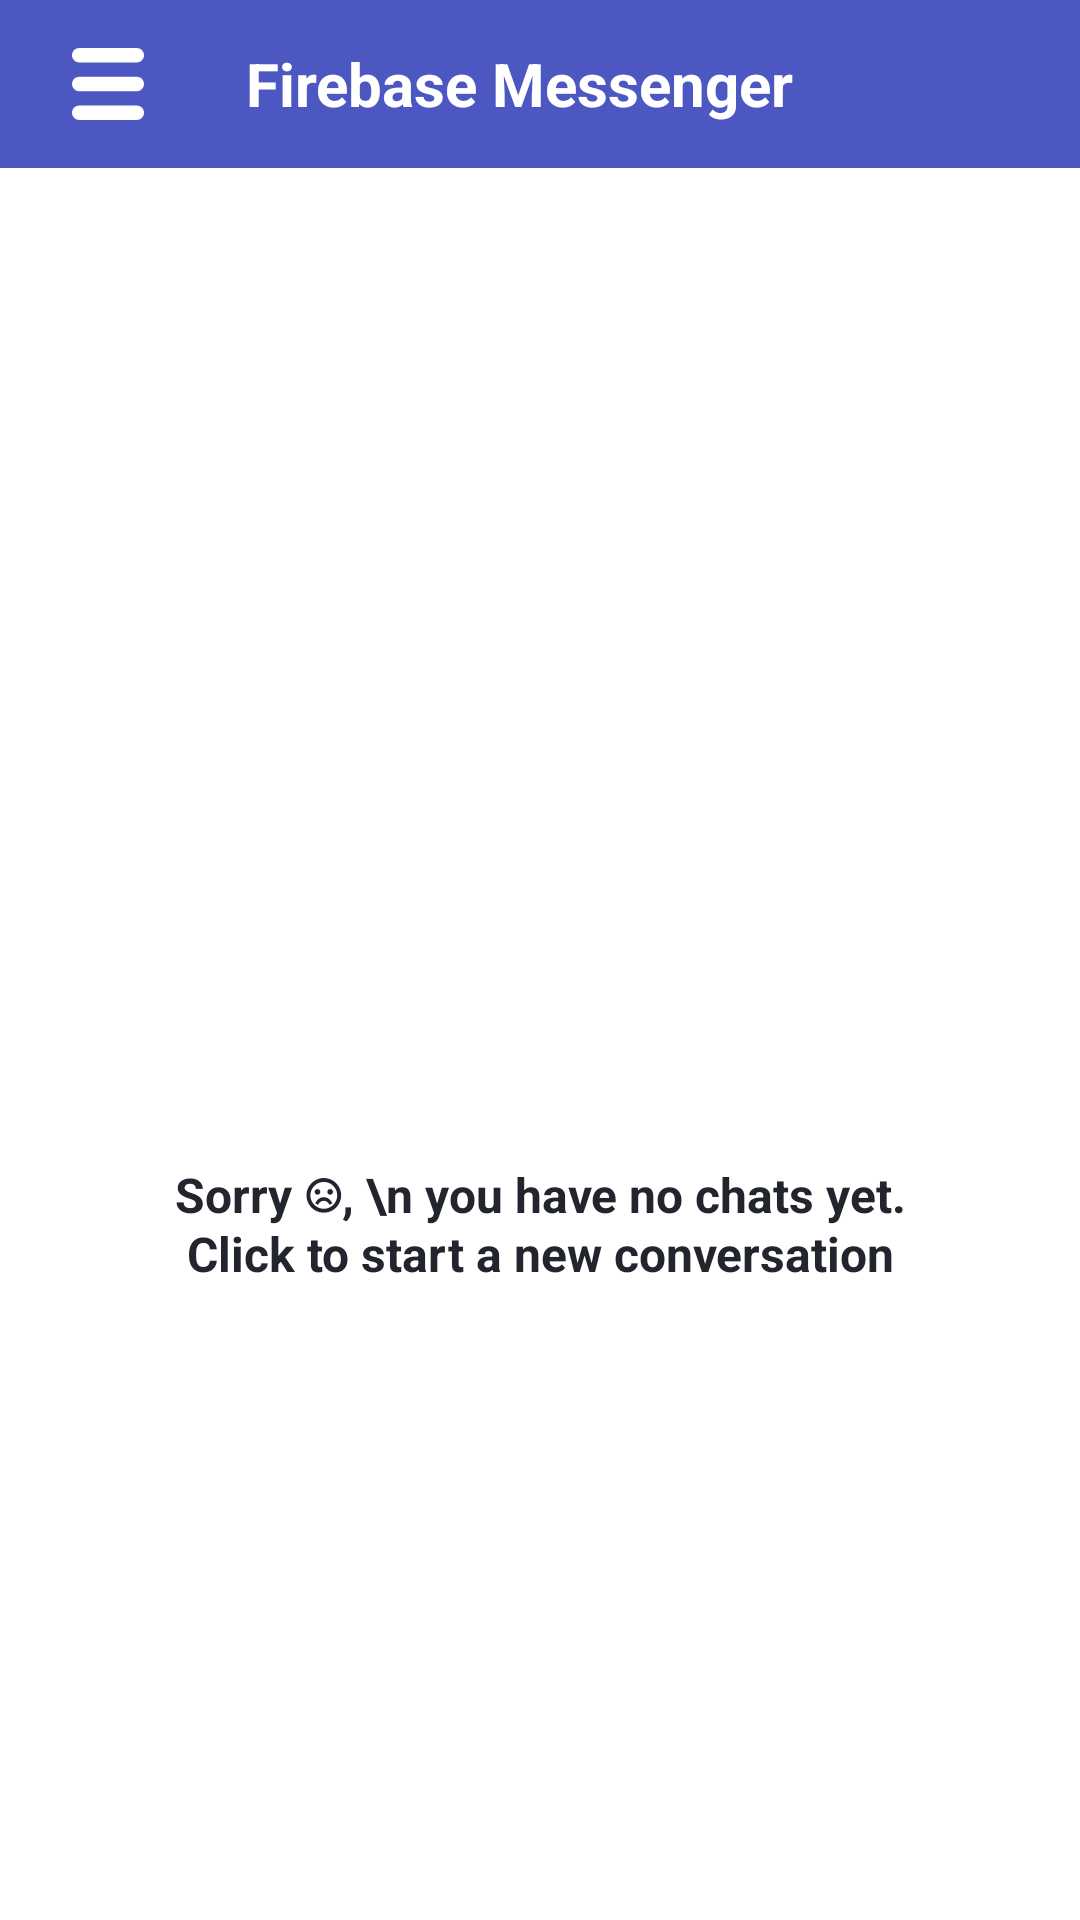

Screen size 1080px x 1920px. Icon name, then its box in pixels as (x1, y1, x2, y2):
menu: (72, 48, 144, 120)
